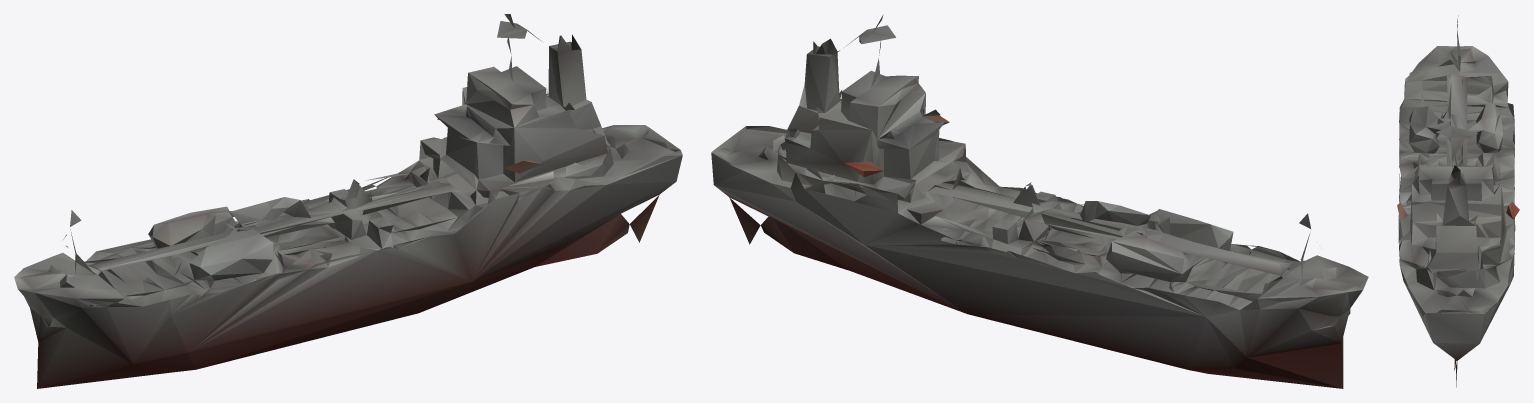
The model's file is tanker_lod1.glb.
3 renders of one model, left to right at view 1: azimuth 30°, elevation 25°; view 2: azimuth 150°, elevation 25°; view 3: azimuth 270°, elevation 25°, orthographic. The views are drawn at different scales.
Parts seen in each view (by area): view 1: tanker; view 2: tanker; view 3: tanker.
Part boxes in pixels (x1=…): tanker: x1=14, y1=14, x2=682, y2=388; tanker: x1=711, y1=15, x2=1368, y2=388; tanker: x1=1397, y1=15, x2=1519, y2=387.
Bounding box in the file's own units: 1.89 × 0.7394 × 0.3727.
